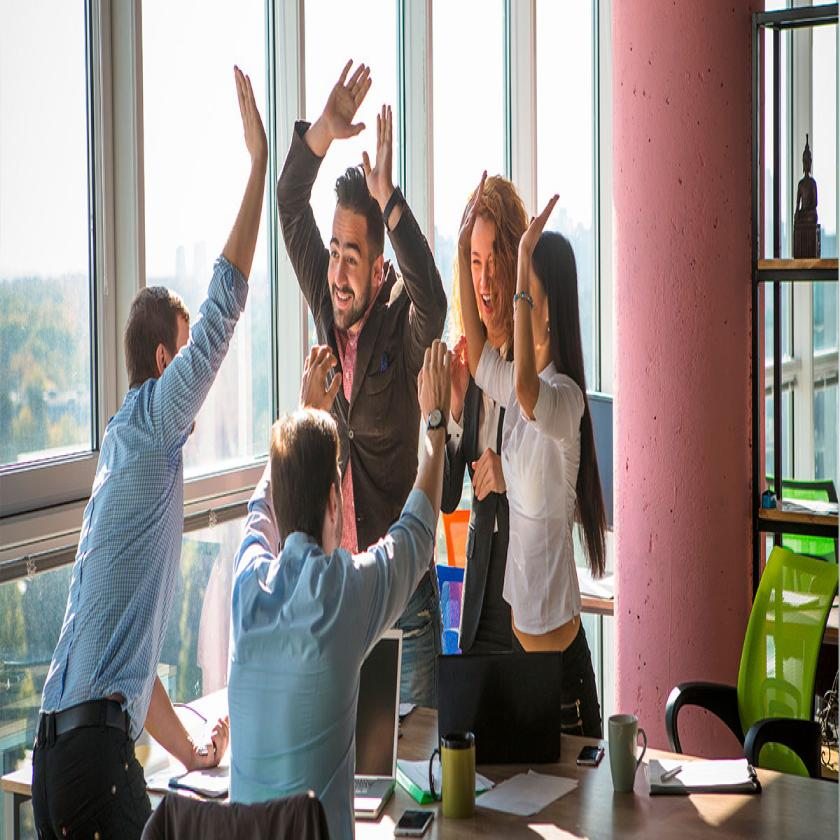Sin_casco: (123, 277, 199, 457), (268, 410, 348, 566), (325, 160, 386, 342), (461, 170, 514, 334), (526, 231, 579, 374)
